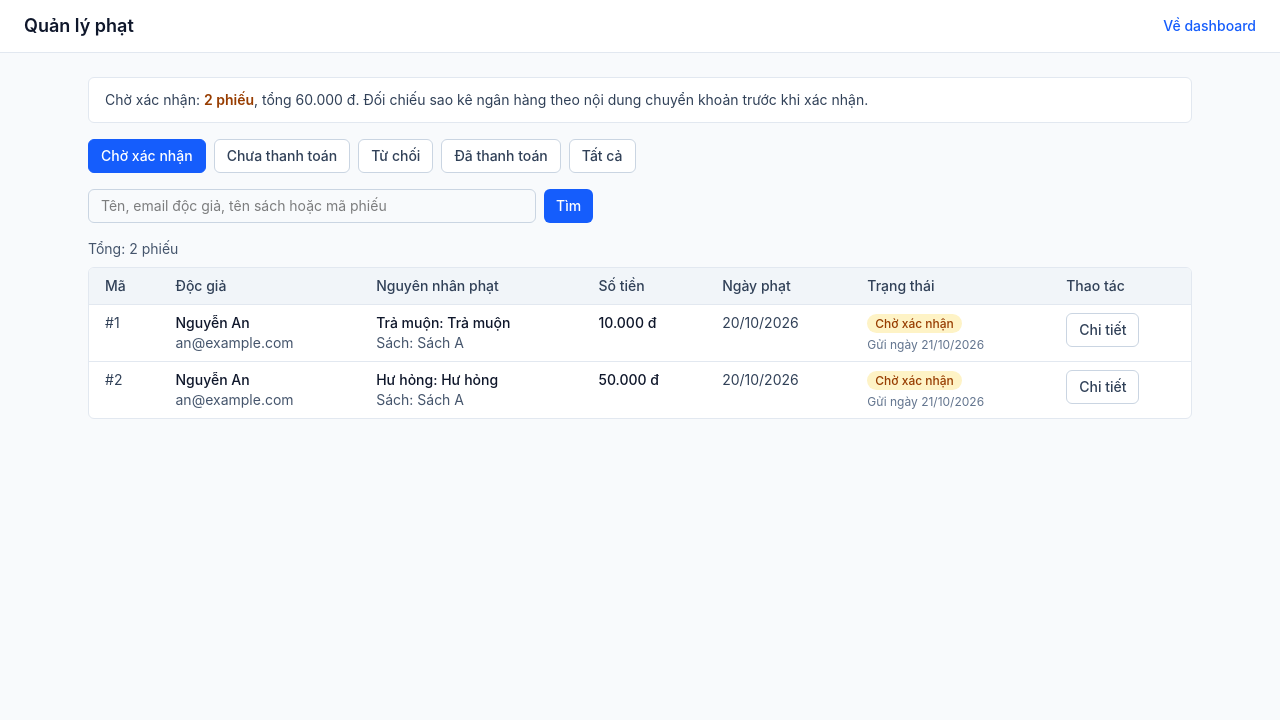
Test: FineTicketsPage (2.5.3) › Đã thanh toán: hỏi lại, gửi, báo độc giả hết bị chặn (edge 5) và tải lại
What coordinates should you click on to do the following:
click the button "Chi tiết" in the row of "10.000 đ"
I would click on:
 (1103, 330)
Its box is [1066, 313, 1139, 347].
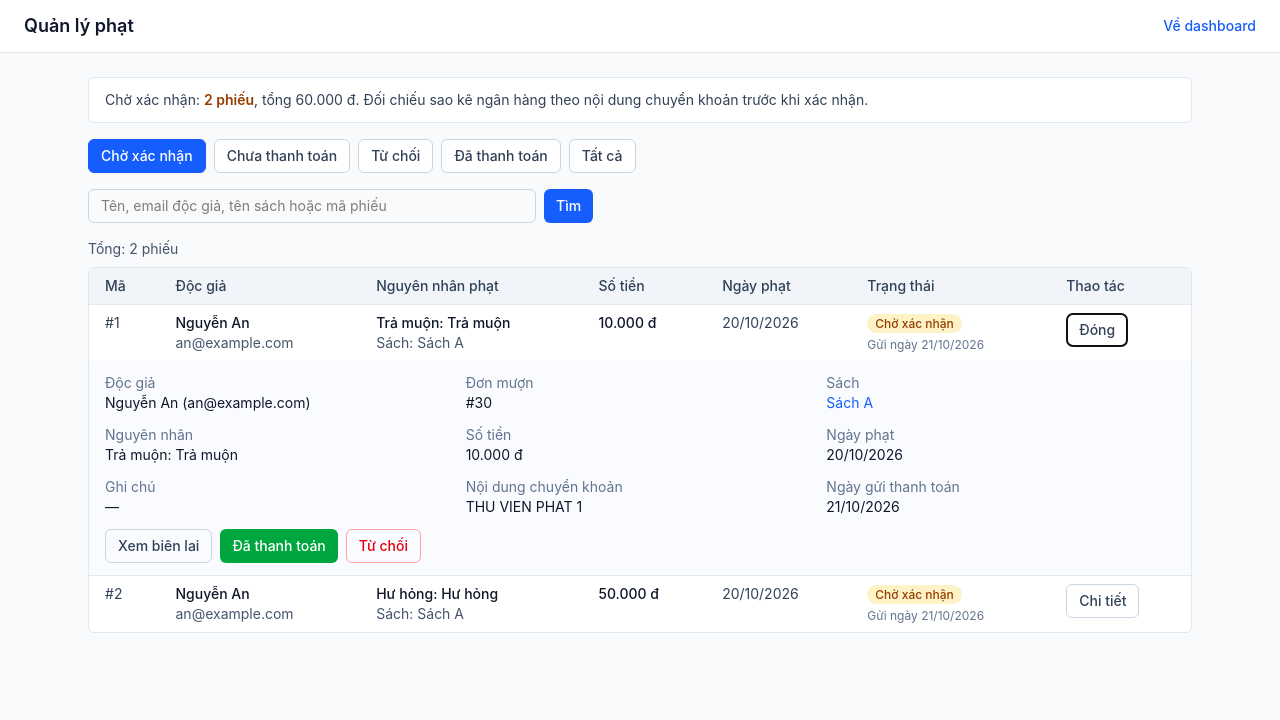
What coordinates should you click on to do the following:
click the button with aria-label "Đã thanh toán phiếu 1"
I would click on:
 (279, 546)
Its box is [220, 529, 338, 563].
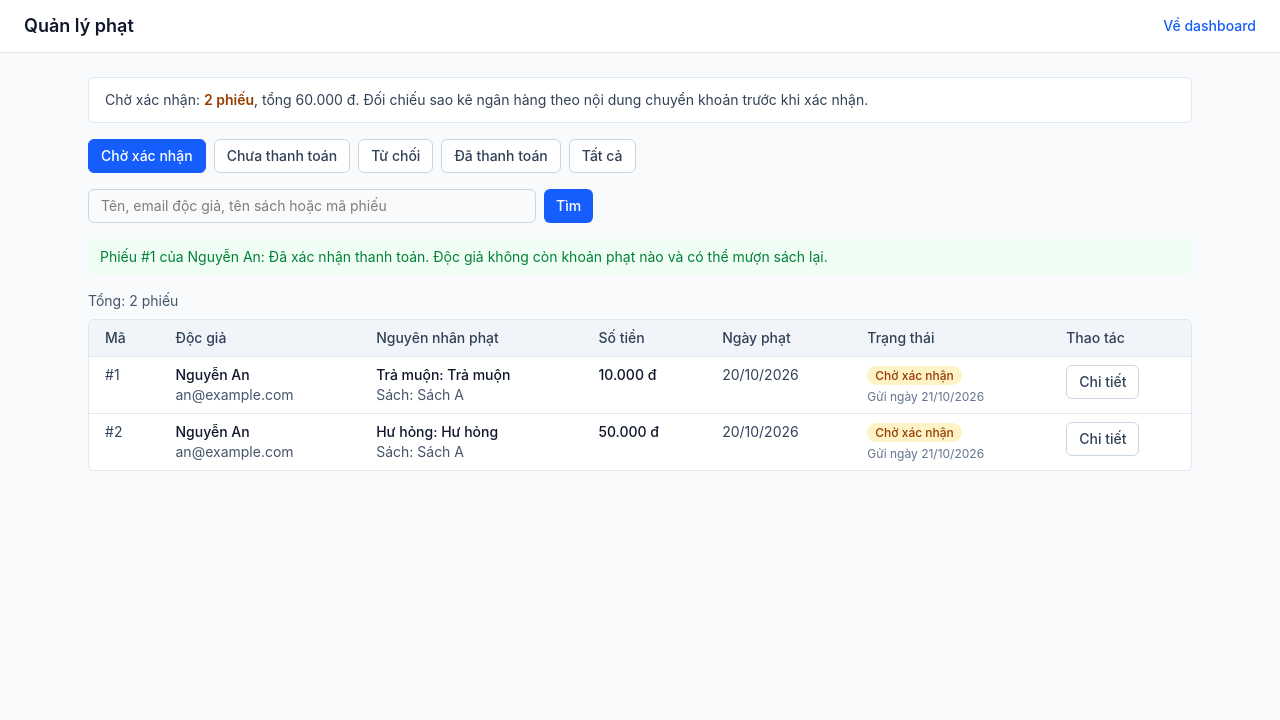
expect the message shows "có thể mượn sách lại": met, box [100, 248, 828, 265]
